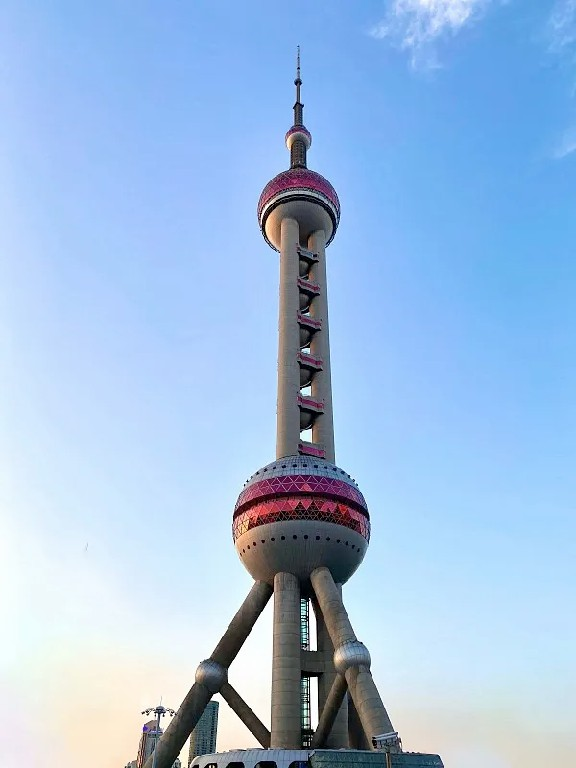Oriental: (145, 45, 401, 768)
